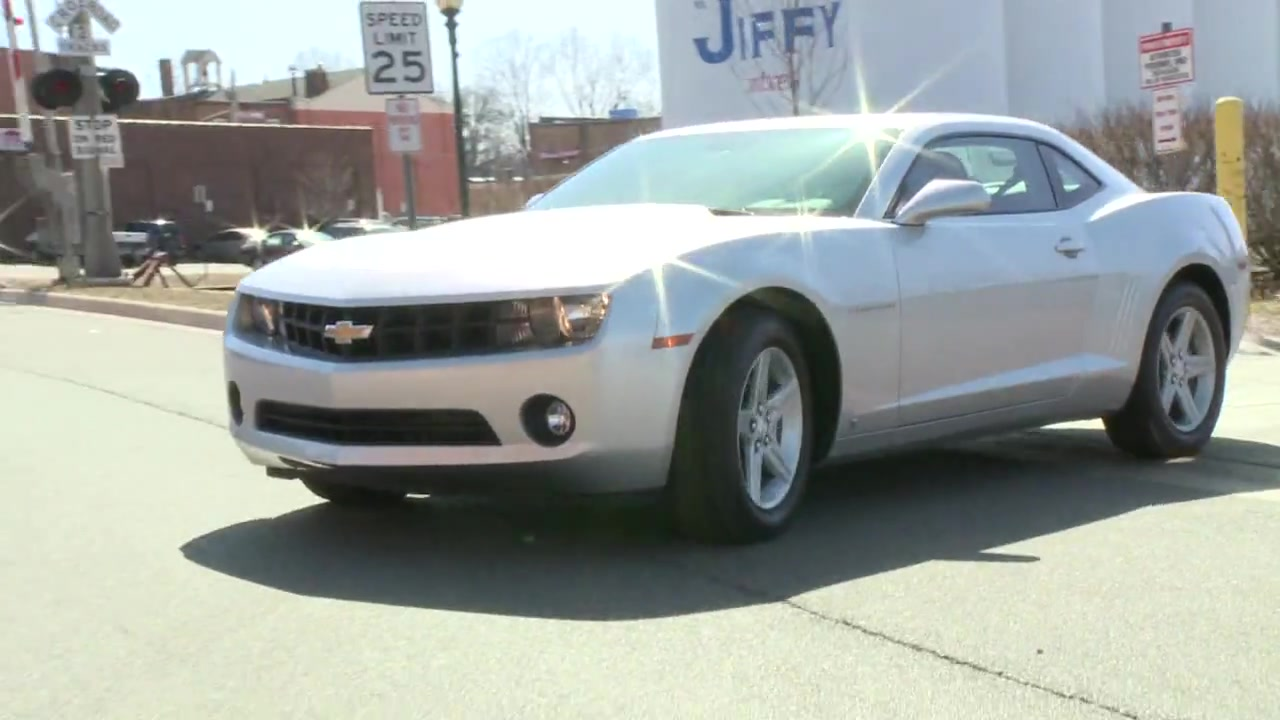car: (217, 110, 1256, 550)
